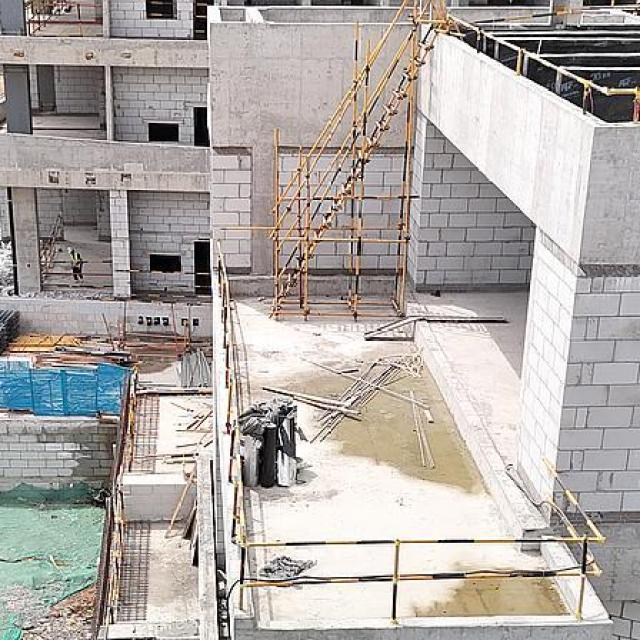edge_guardrail: (214, 239, 610, 624), (445, 13, 640, 123), (103, 498, 126, 626), (114, 269, 213, 298), (23, 2, 103, 37), (39, 260, 114, 289), (126, 373, 140, 473), (474, 10, 569, 24), (40, 214, 61, 260), (193, 2, 208, 34), (146, 1, 175, 16)
